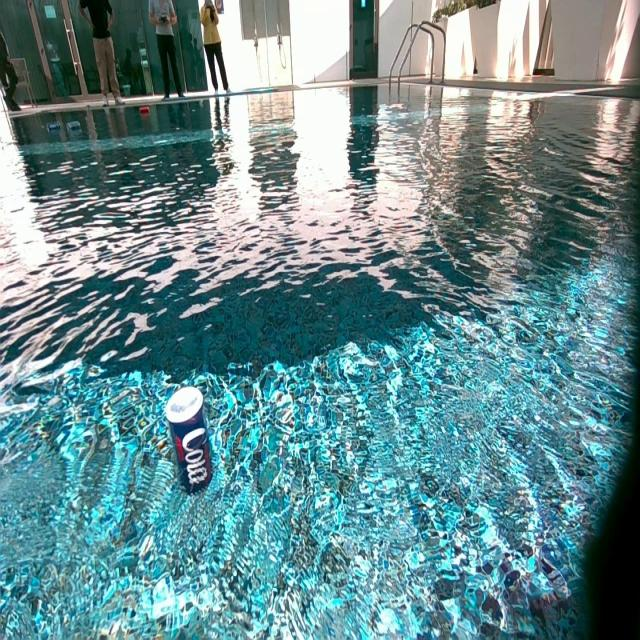Cans: (167, 381, 215, 496), (68, 118, 82, 132), (46, 121, 59, 133), (49, 123, 62, 135), (139, 107, 150, 117)
